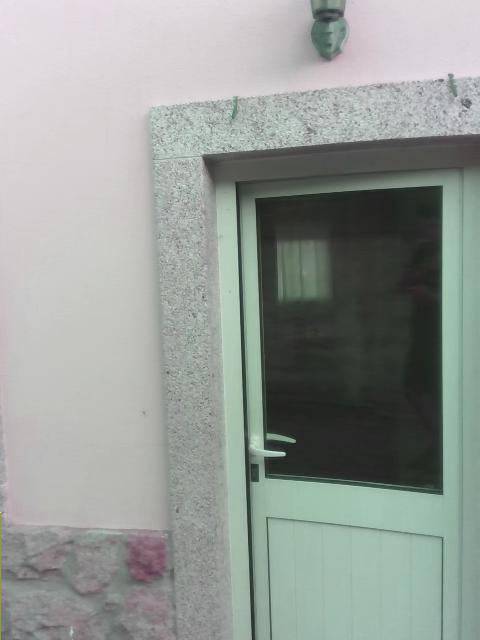closed_door: (203, 144, 479, 633)
